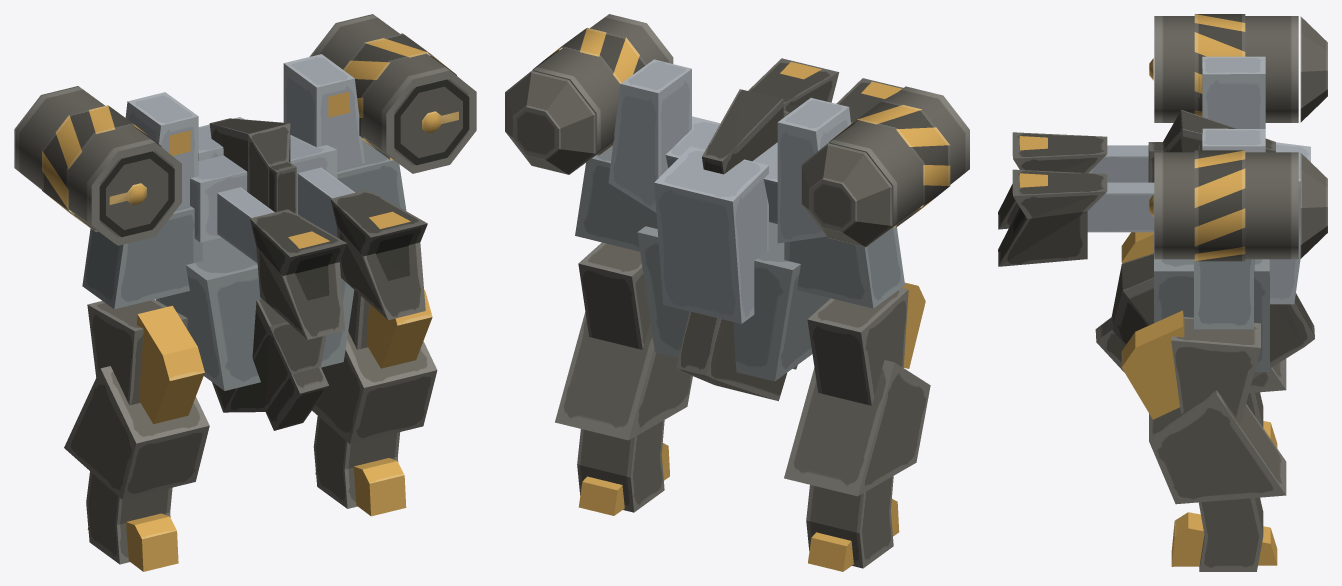
Rendered from machines1.FBX.
3 views of the same model, side by side, from view 1: azimuth 30°, elevation 25°; view 2: azimuth 150°, elevation 25°; view 3: azimuth 270°, elevation 25° (orthographic). The views are drawn at different scales.
Visible parts, largest first — view 1: b, Machines1, c, d1, d, a; view 2: b, Machines1, d1, a, d, c; view 3: b, Machines1, d, d1, c, a.
Part boxes in pixels (bbox=[...]): b: bbox=[82, 54, 406, 430]; Machines1: bbox=[64, 332, 437, 571]; c: bbox=[250, 189, 427, 339]; d1: bbox=[14, 86, 181, 245]; d: bbox=[309, 14, 476, 173]; a: bbox=[87, 289, 432, 423]; b: bbox=[575, 59, 904, 401]; Machines1: bbox=[555, 312, 930, 571]; d1: bbox=[801, 86, 969, 247]; a: bbox=[578, 242, 925, 405]; d: bbox=[505, 14, 673, 174]; c: bbox=[748, 58, 902, 123]; b: bbox=[1087, 56, 1314, 378]; Machines1: bbox=[1149, 358, 1286, 571]; d: bbox=[1149, 150, 1327, 261]; d1: bbox=[1149, 14, 1327, 122]; c: bbox=[998, 132, 1107, 266]; a: bbox=[1121, 232, 1260, 423].
Size of the model in its own units: 83.19 by 64.52 by 89.77.
